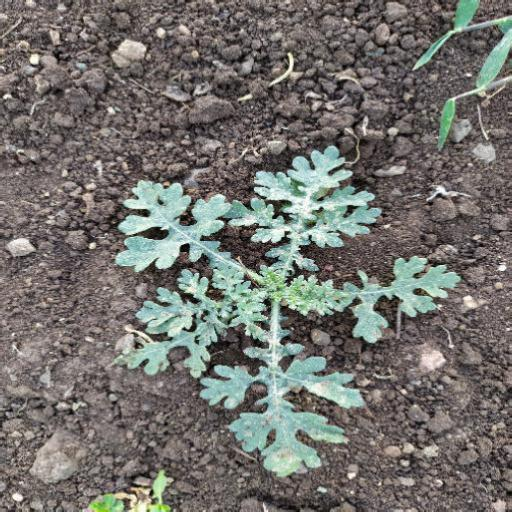weed: (114, 138, 460, 465)
